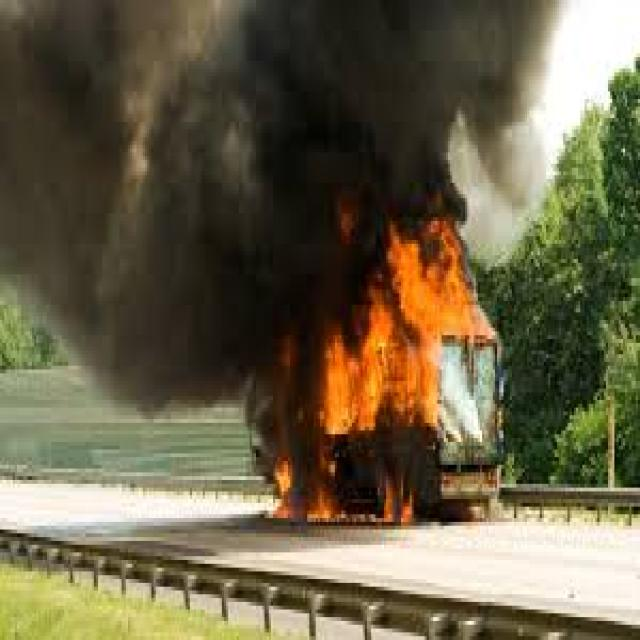fire: (268, 232, 506, 534)
smoke: (2, 4, 269, 408), (256, 3, 567, 228)
